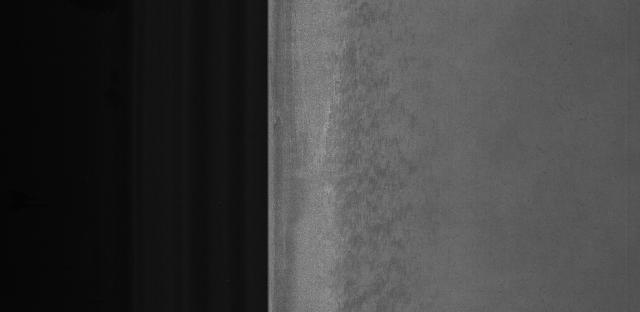silk_spot: (328, 42, 424, 293)
